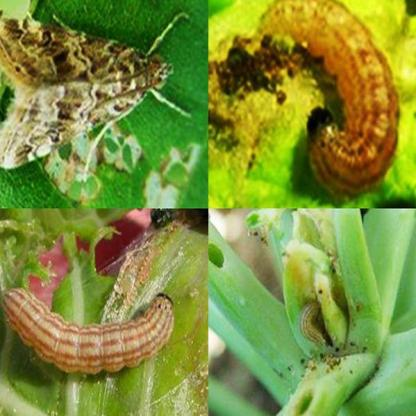armyworm: (0, 10, 189, 185), (253, 2, 403, 196), (8, 277, 178, 379), (292, 292, 339, 363)
